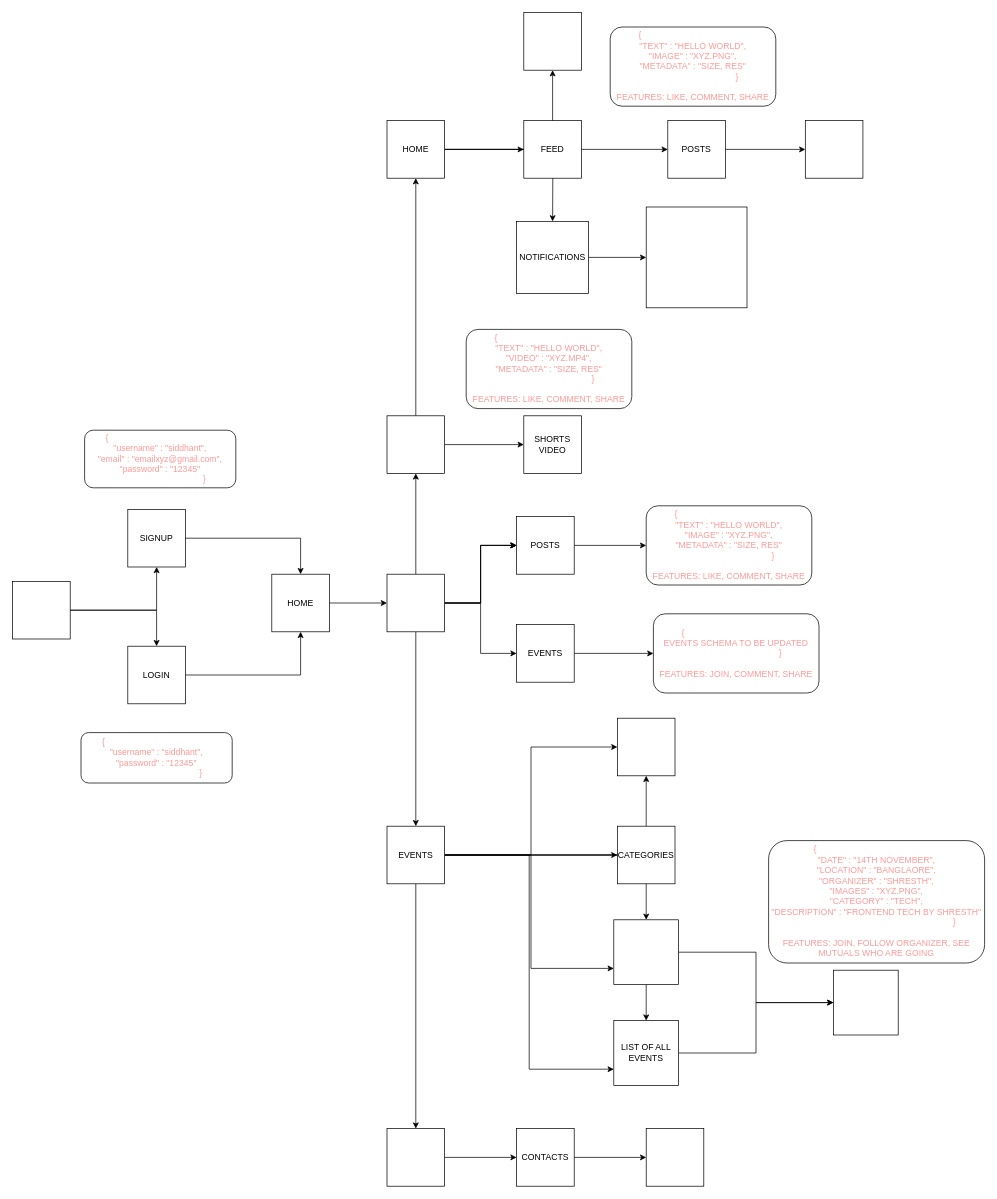
Image size: 997x1199. Some labels were removed from this diagram. The centre of each missing label's shape, as x and y in pixels:
"CAROUSEL OF POPULAR EVENTS" belongs at point (646, 952).
"CHATS" belongs at point (415, 1157).
"COMMENTS" belongs at point (834, 149).
"CUTS" belongs at point (415, 444).
"EVENT DETAILS" belongs at point (865, 1002).
"EVENT JOINED, EVENT APPROACHING, SOMEONE FOLLOWED, LIKES, COMMENT" belongs at point (696, 257).
"MESSGING, WEB SOCKET" belongs at point (674, 1157).
"PROFILE" belongs at point (552, 41).
"RONET" belongs at point (41, 610).
"SEARCH BAR" belongs at point (646, 746).
"UPLOAD" belongs at point (415, 602).
